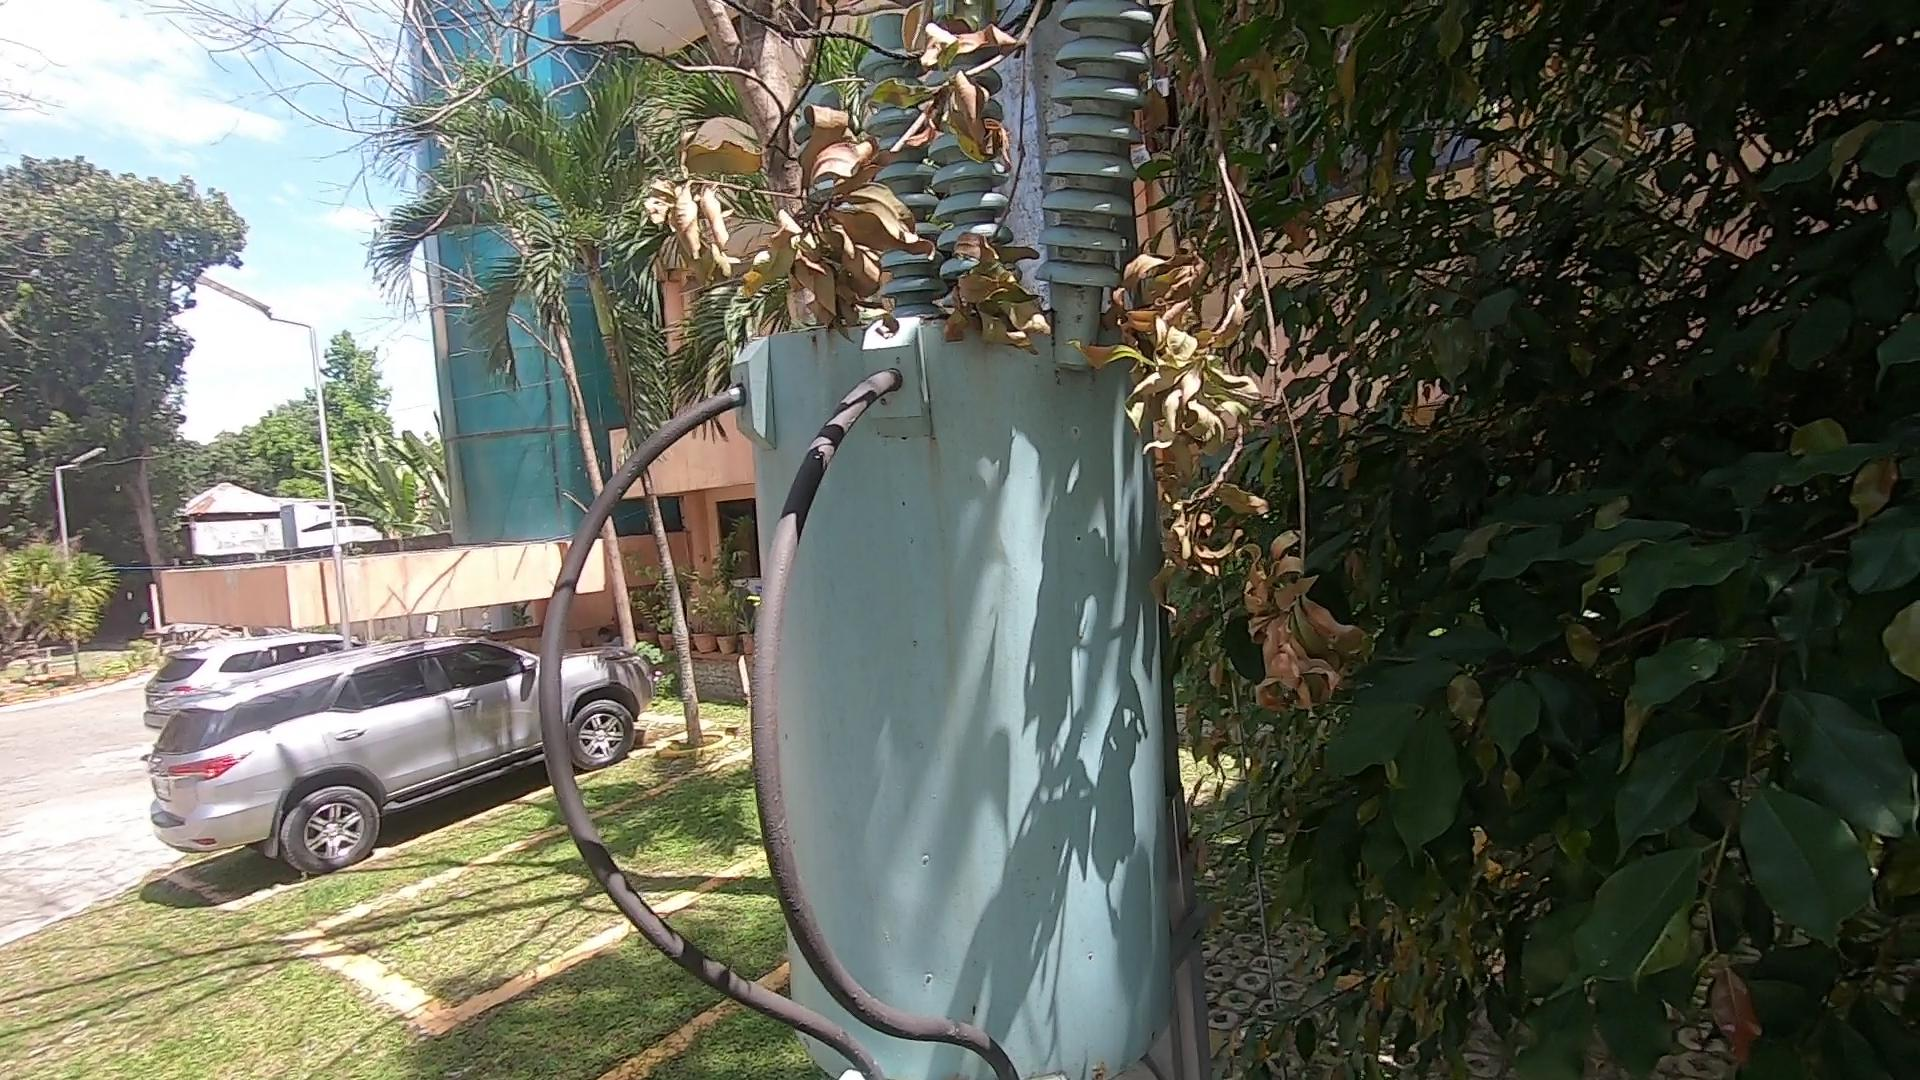branch with leaves: (1093, 1, 1361, 728), (585, 1, 1067, 361)
